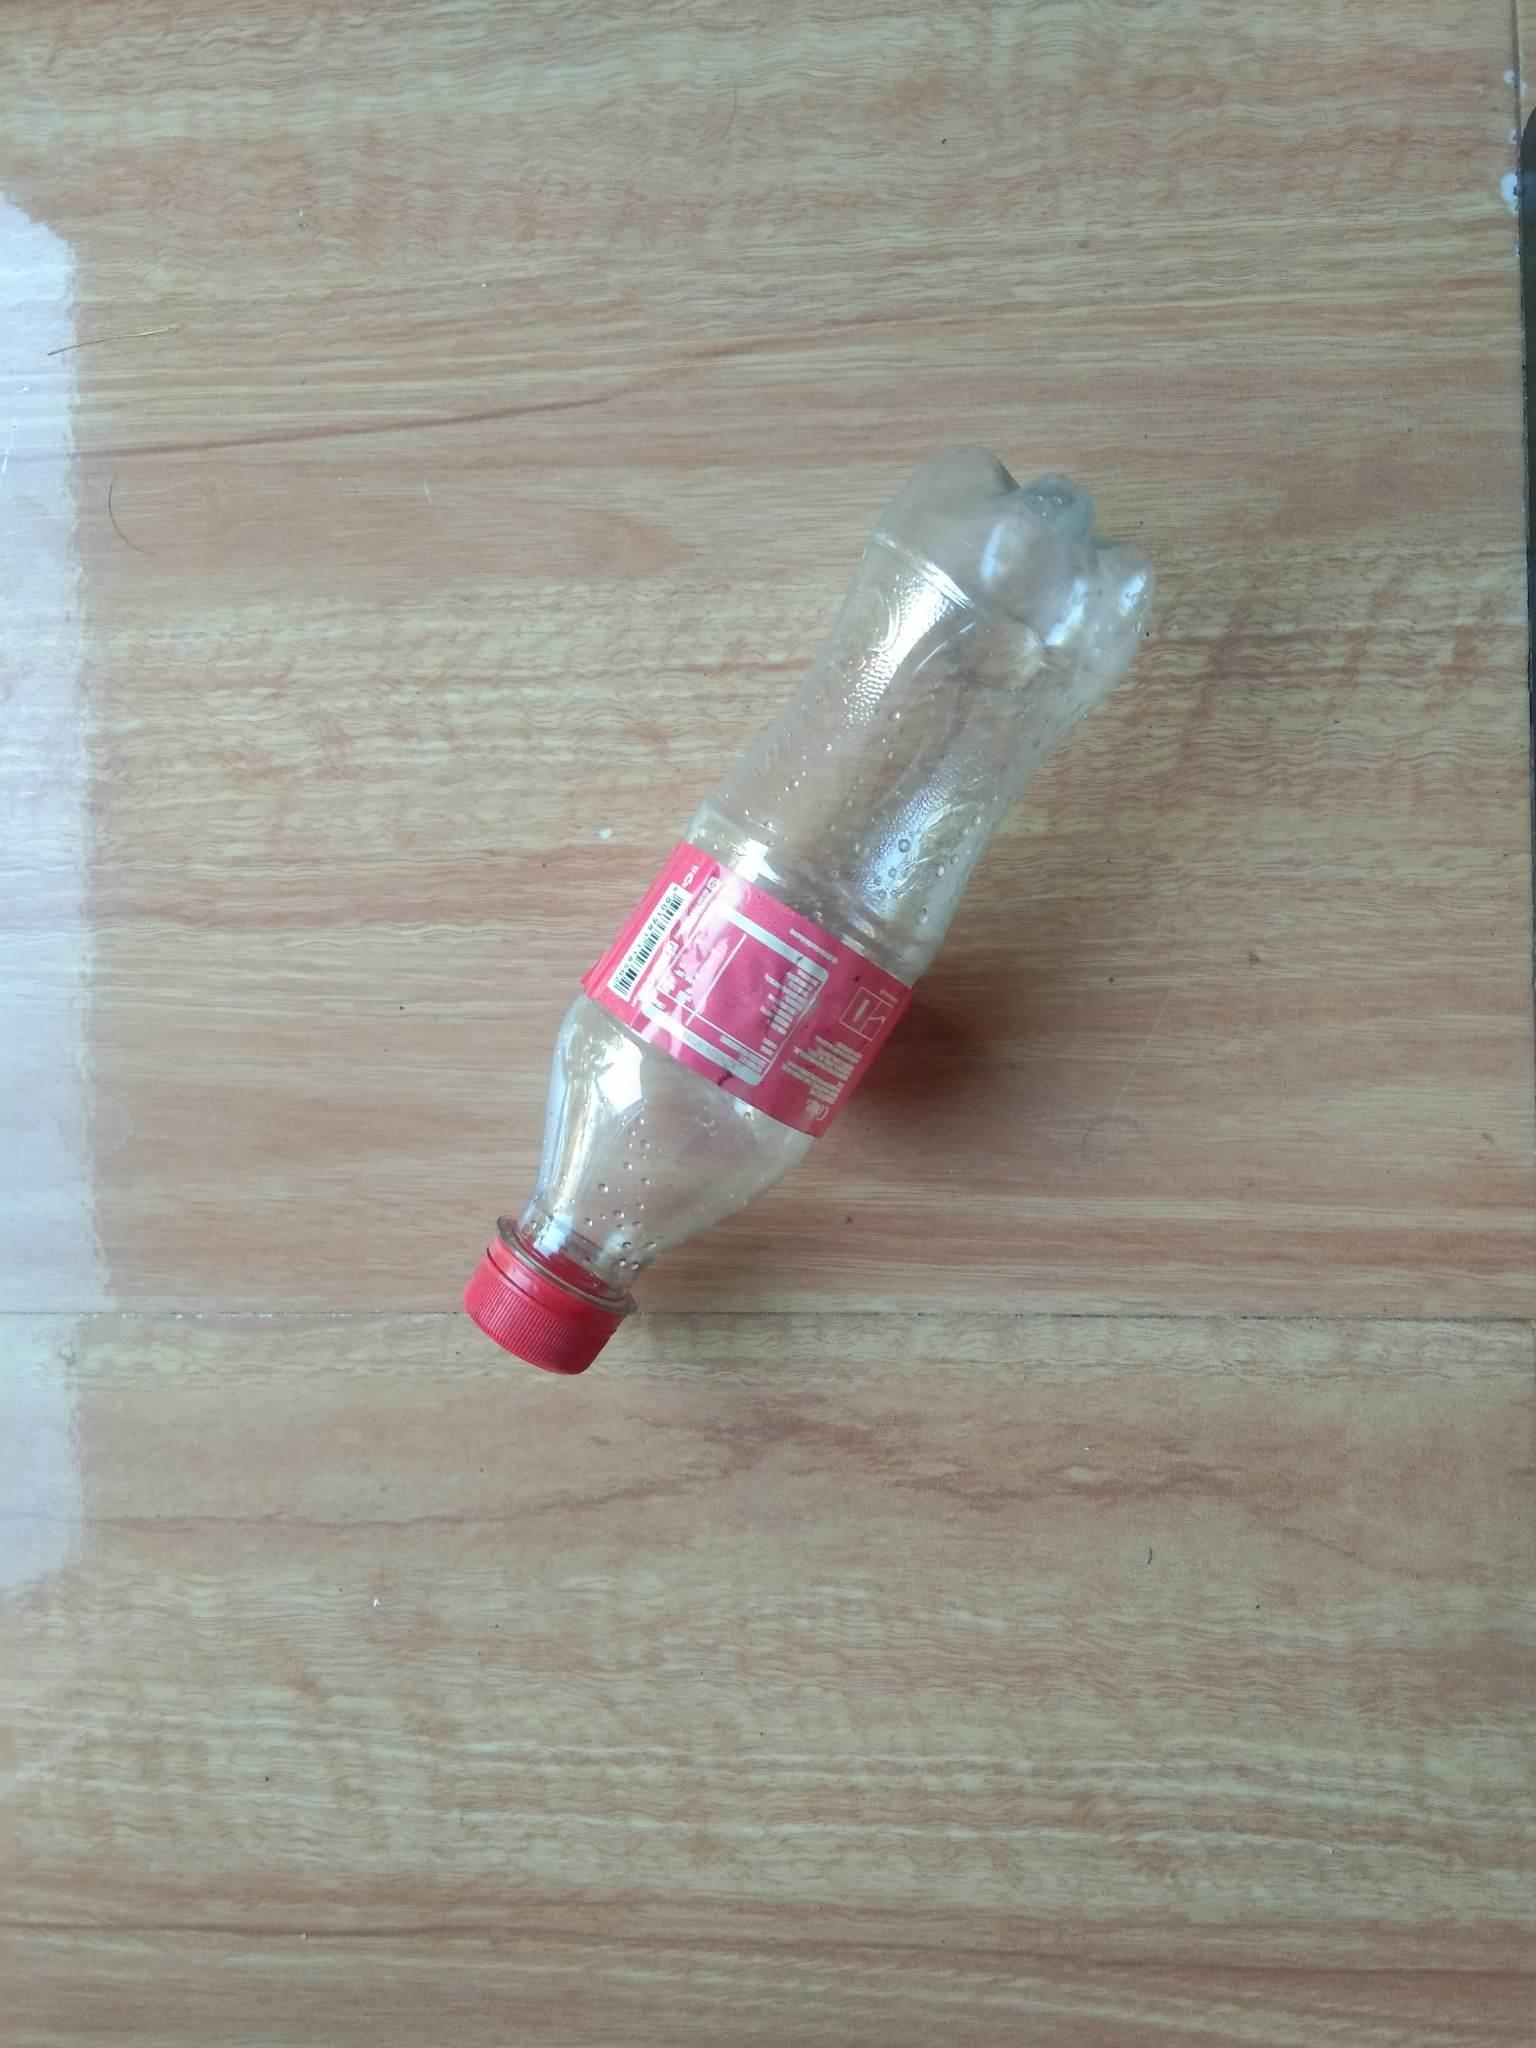plastic: (447, 414, 1197, 1430)
